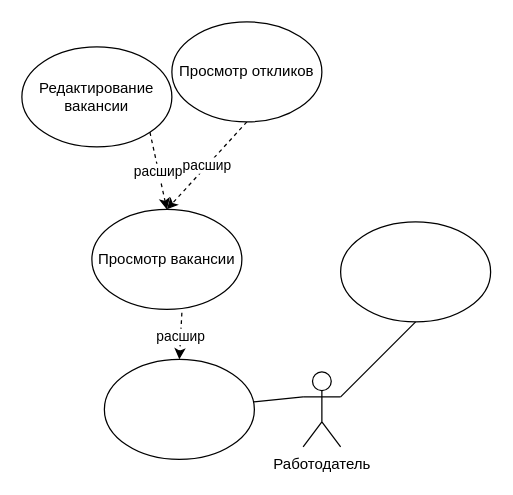
The diagram is 513 pixels wide and 495 high, and some of its shapes have lost their labels. The box of each missing label's shape, as (x1, y1, x2, y2) in pixels:
Приглашение пользователя в компанию: (339, 221, 491, 322)
Создание новой вакансии: (103, 358, 254, 459)
